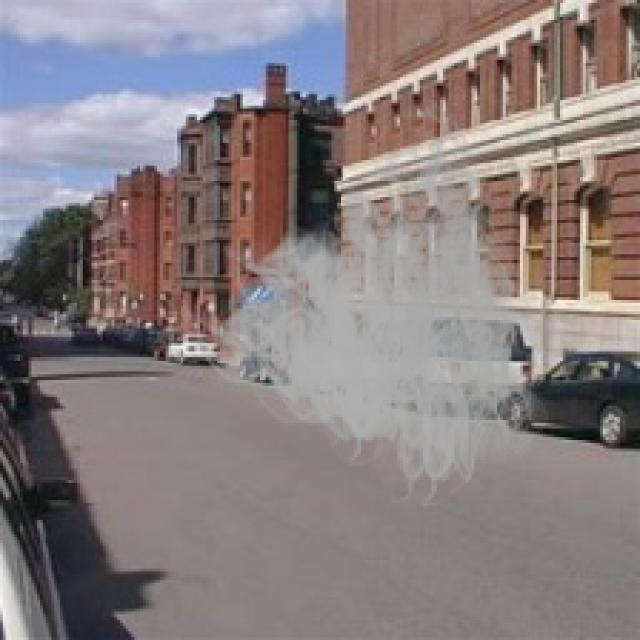Smoke: (185, 94, 558, 520)
